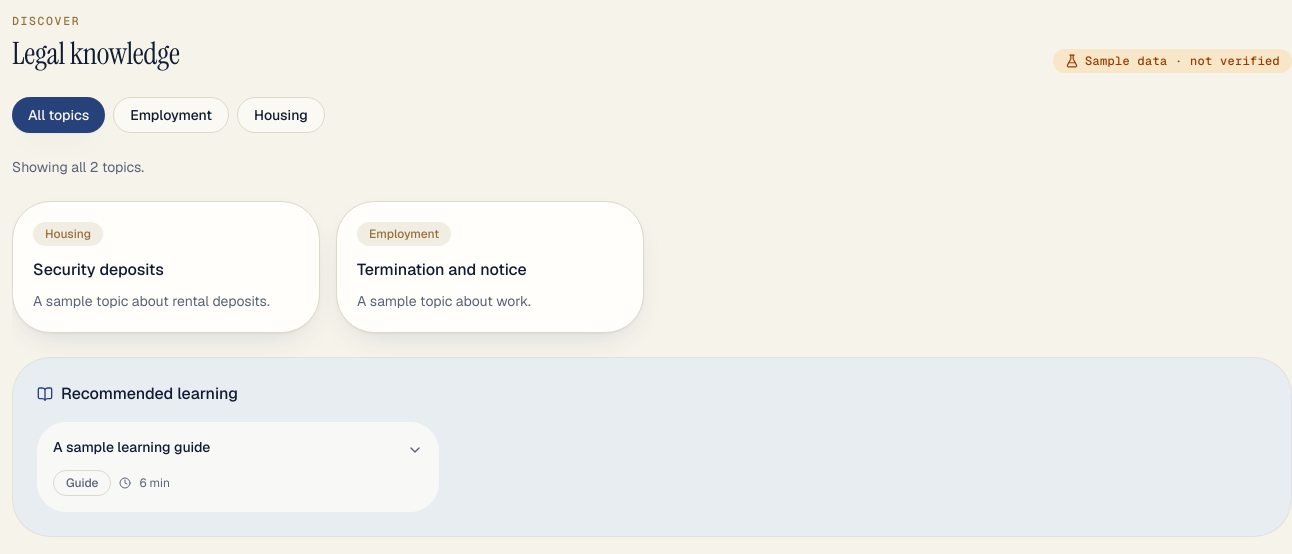
Test: KnowledgeDiscovery › filters topics by category and restores the full list
Expected: the link "Security deposits" is shown, x1=12 y1=201 x2=320 y2=333
Expected: the link "employment Termination and notice A sample topic about work." is shown, x1=336 y1=201 x2=644 y2=333
Step 1. Click the button "Housing" → (281, 115), box x1=237 y1=97 x2=325 y2=133
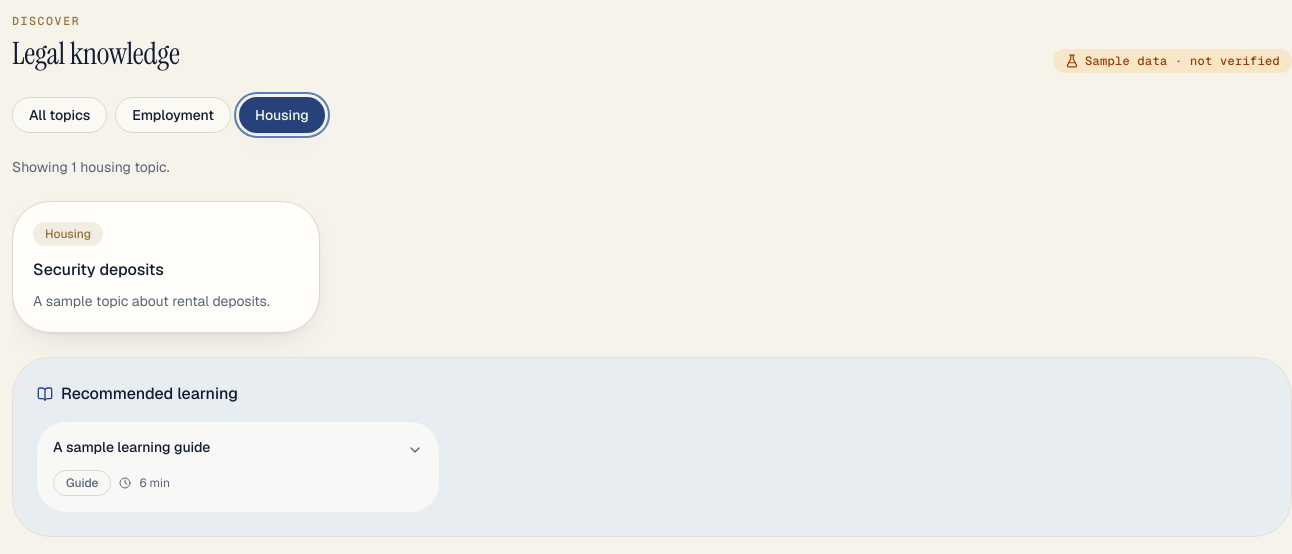
Expected: the link "Security deposits" is shown, x1=12 y1=201 x2=320 y2=333
Expected: the link "Termination and notice" is gone
Expected: the message reads "Showing 1 housing topic.", x1=12 y1=158 x2=170 y2=176
Step 2. Click the button "All topics" → (60, 115), box x1=12 y1=97 x2=107 y2=133
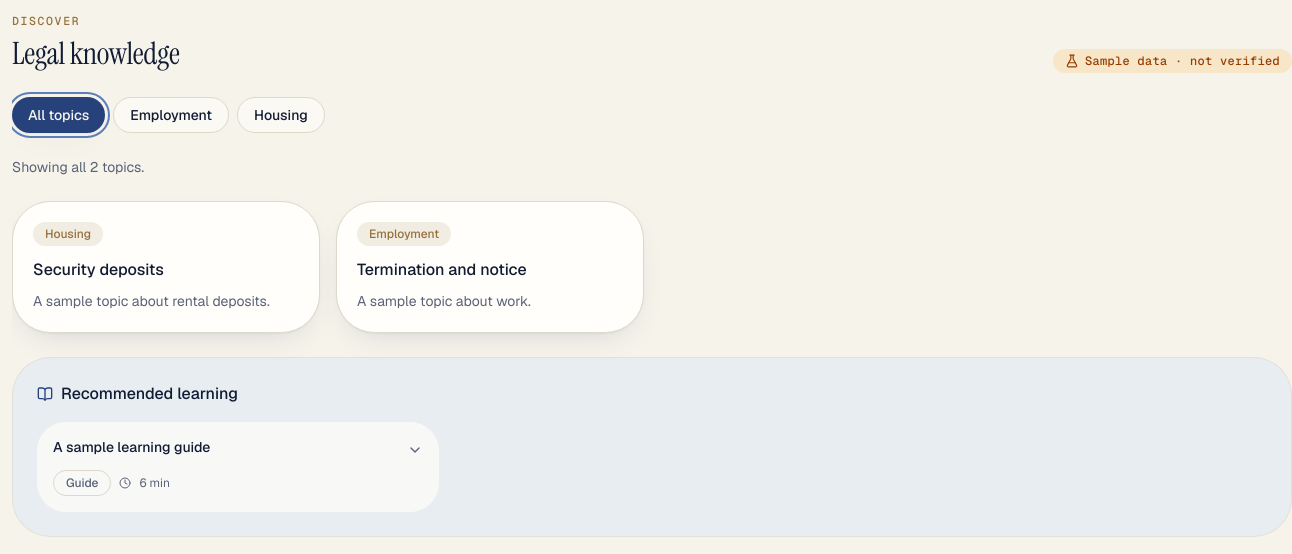
Expected: the link "employment Termination and notice A sample topic about work." is shown, x1=336 y1=201 x2=644 y2=333
